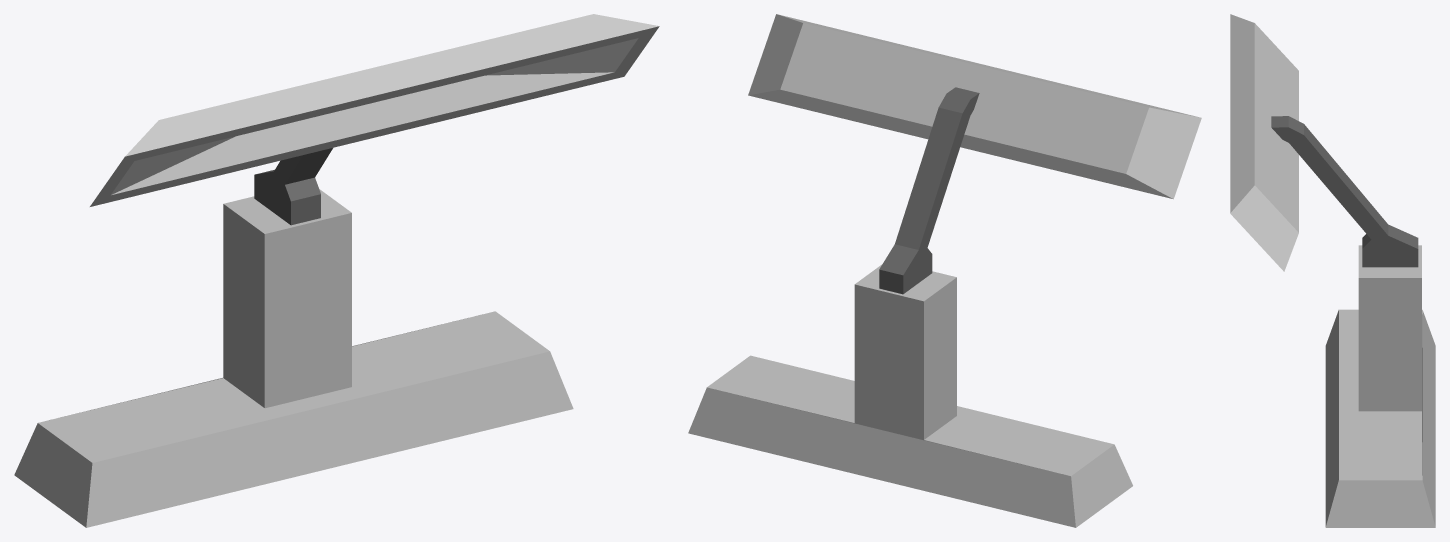
The model's file is Desk Lamp 2.FBX.
3 renders of one model, left to right at view 1: azimuth 30°, elevation 25°; view 2: azimuth 150°, elevation 25°; view 3: azimuth 270°, elevation 25°, orthographic. The views are drawn at different scales.
Parts seen in each view (by area): view 1: Box001; view 2: Box001; view 3: Box001.
Part boxes in pixels (box(x1,y1,x2,y2)): Box001: box(14, 14, 659, 527); Box001: box(688, 14, 1201, 527); Box001: box(1230, 14, 1435, 527).
Bounding box in the file's own units: 129 × 99.93 × 55.95.
